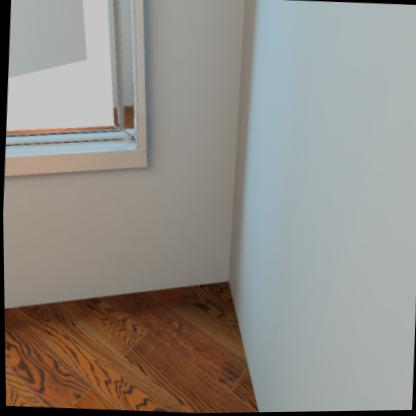Wooden floor: (4, 283, 257, 414)
